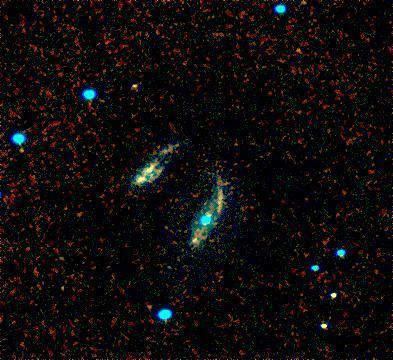star: (178, 224, 208, 254)
